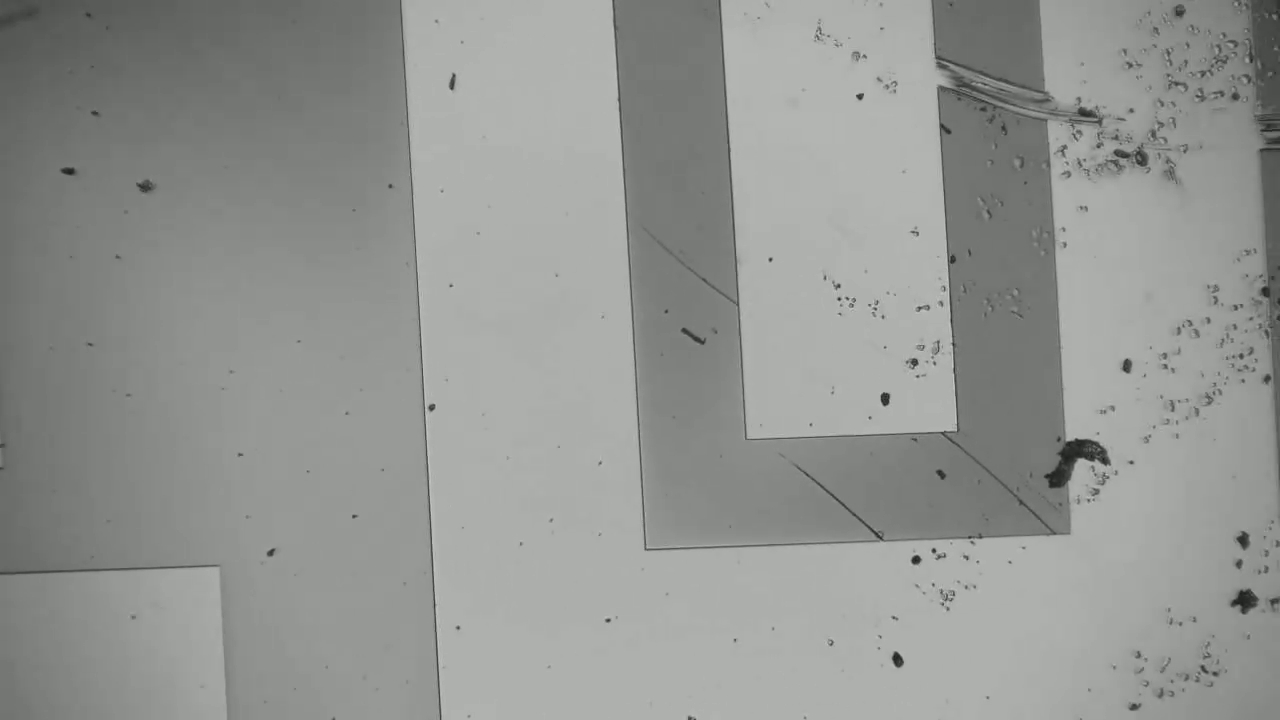Short_circuit: (915, 43, 1078, 149)
scratch: (960, 441, 1052, 527), (649, 238, 735, 313), (797, 467, 884, 533)
